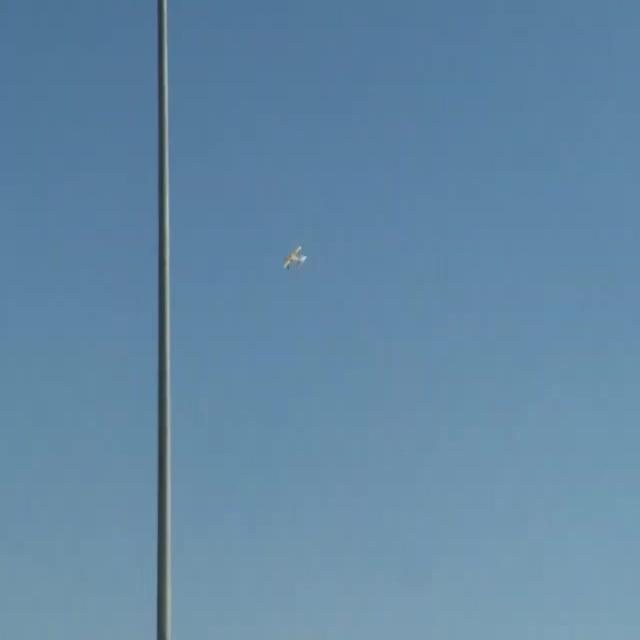iha: (282, 242, 308, 271)
